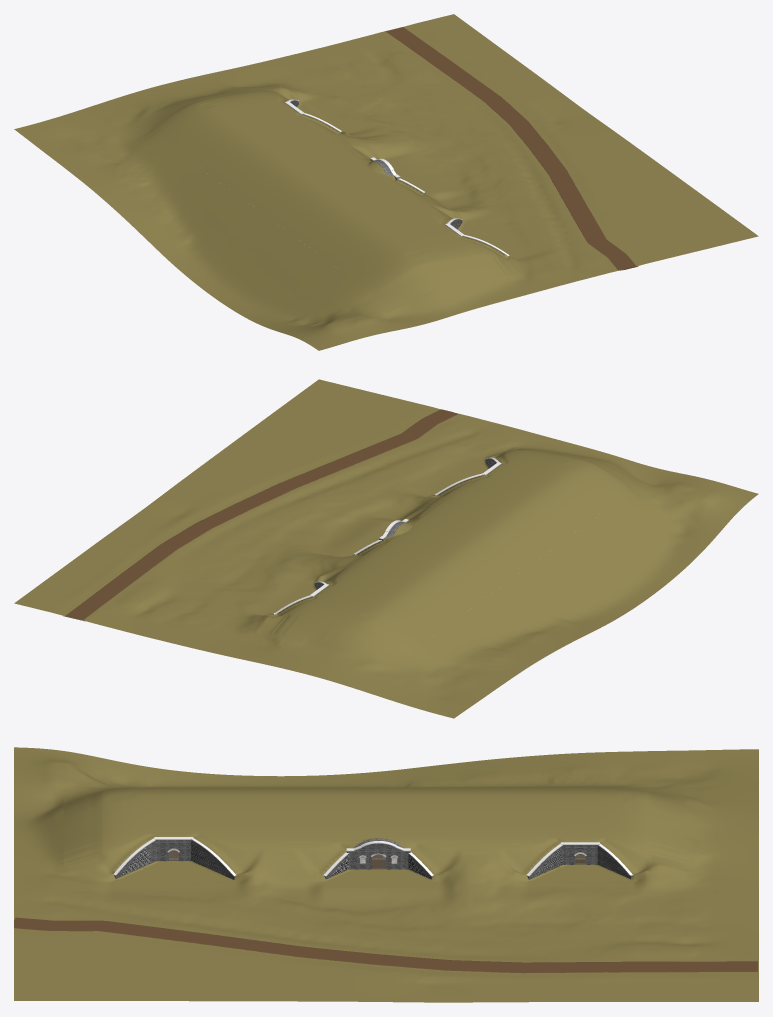
The model's file is sandeliai.glb.
3 views of the same model, one above another, from view 1: azimuth 30°, elevation 25°; view 2: azimuth 150°, elevation 25°; view 3: azimuth 270°, elevation 25° (orthographic). The views are drawn at different scales.
Parts seen in each view (by area): view 1: sandeliai; view 2: sandeliai; view 3: sandeliai.
Boxes of the visible parts, x1,y1,x2,y2 form: sandeliai: (14, 14, 758, 350); sandeliai: (14, 379, 758, 718); sandeliai: (14, 747, 758, 1002).
Size of the model in its own units: 100 by 11.29 by 120.
Materials: 8 (6 with a texture image).
